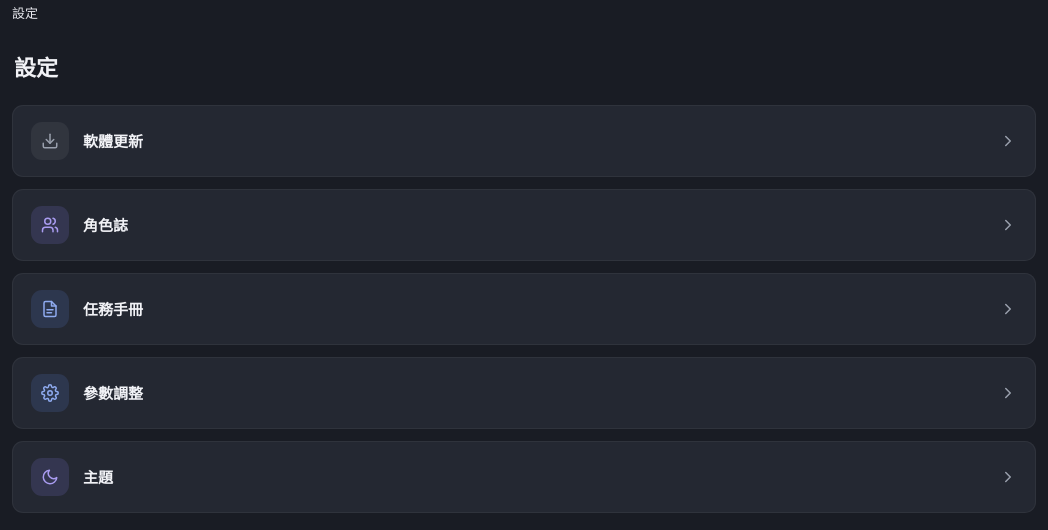
設定 › 任務手冊 — list › starts honestly empty (出廠不含任何類型)
Click the button with test id "settings-manuals-entry": click(50, 308) [12,272,1036,344]
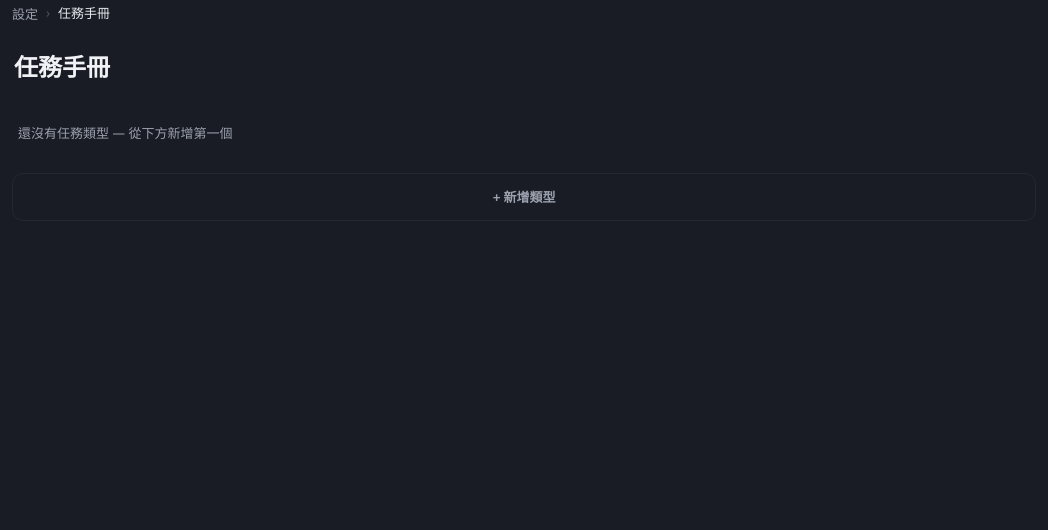
Expected: the text with test id "manuals-empty" shows "還沒有任務類型", [18,124,233,140]
